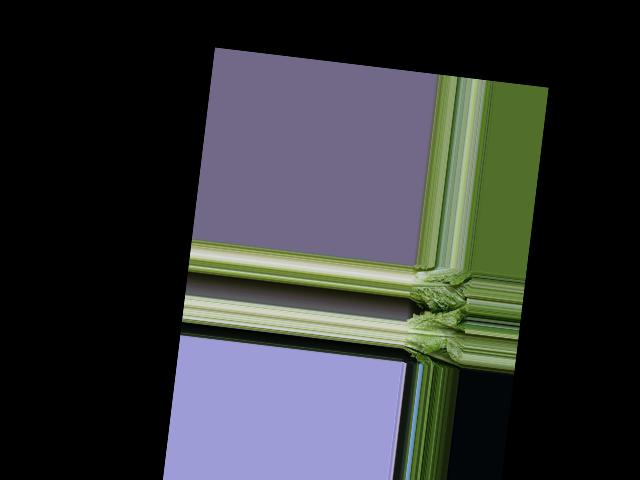lettuce: (407, 266, 469, 311)
